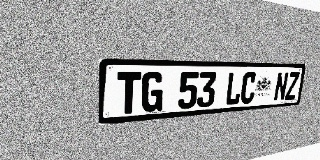3: (196, 72, 217, 108)
5: (178, 72, 199, 109)
C: (239, 72, 257, 104)
G: (141, 72, 164, 113)
L: (224, 72, 243, 105)
N: (273, 72, 289, 101)
T: (116, 72, 141, 115)
Z: (284, 72, 300, 100)
